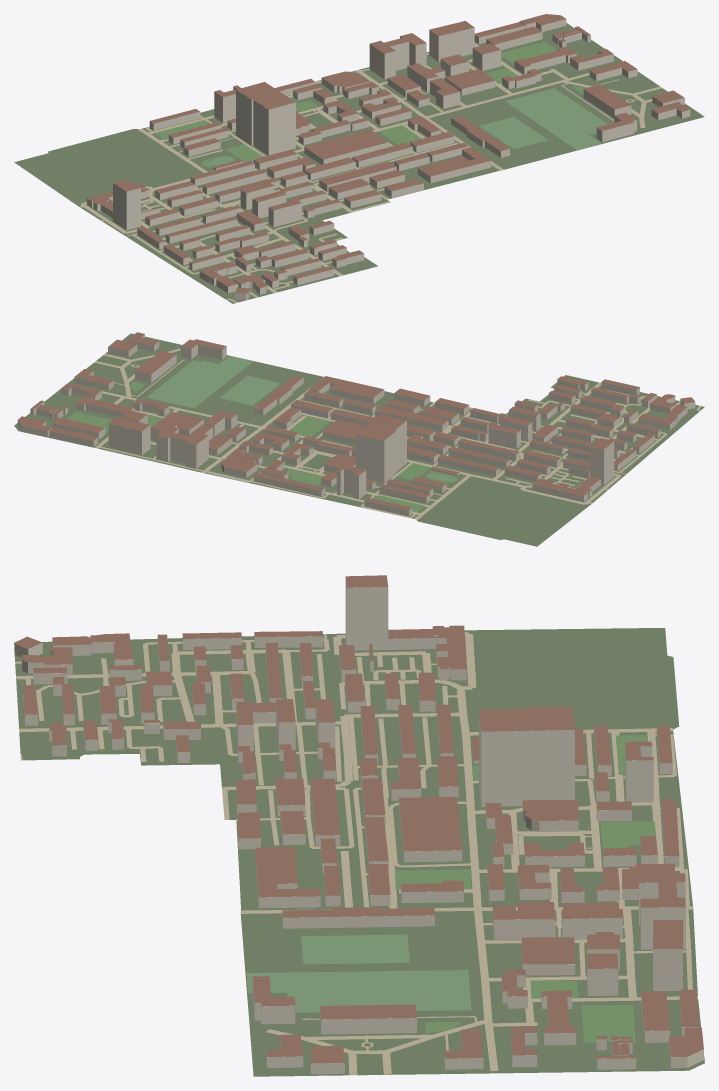
3 views of the same model, one above another, from view 1: azimuth 30°, elevation 25°; view 2: azimuth 150°, elevation 25°; view 3: azimuth 270°, elevation 25° (orthographic). The views are drawn at different scales.
Visible parts, largest first — view 1: buildings, campus-ground, roofs, environment (×3); view 2: buildings, campus-ground, roofs, environment (×3); view 3: campus-ground, roofs, buildings, environment (×3).
Part boxes in pixels (x1,y1,x2,y2): buildings: (87,19,690,300); campus-ground: (14,23,704,303); roofs: (87,14,689,293); environment (×3): (79,41,662,302); buildings: (17,334,695,516); campus-ground: (14,333,704,546); roofs: (18,332,694,510); environment (×3): (67,348,701,519); campus-ground: (14,628,704,1076); roofs: (14,575,703,1063); buildings: (14,579,703,1074); environment (×3): (14,632,697,1075).
Size of the model in its own units: 1058 by 82.75 by 688.
